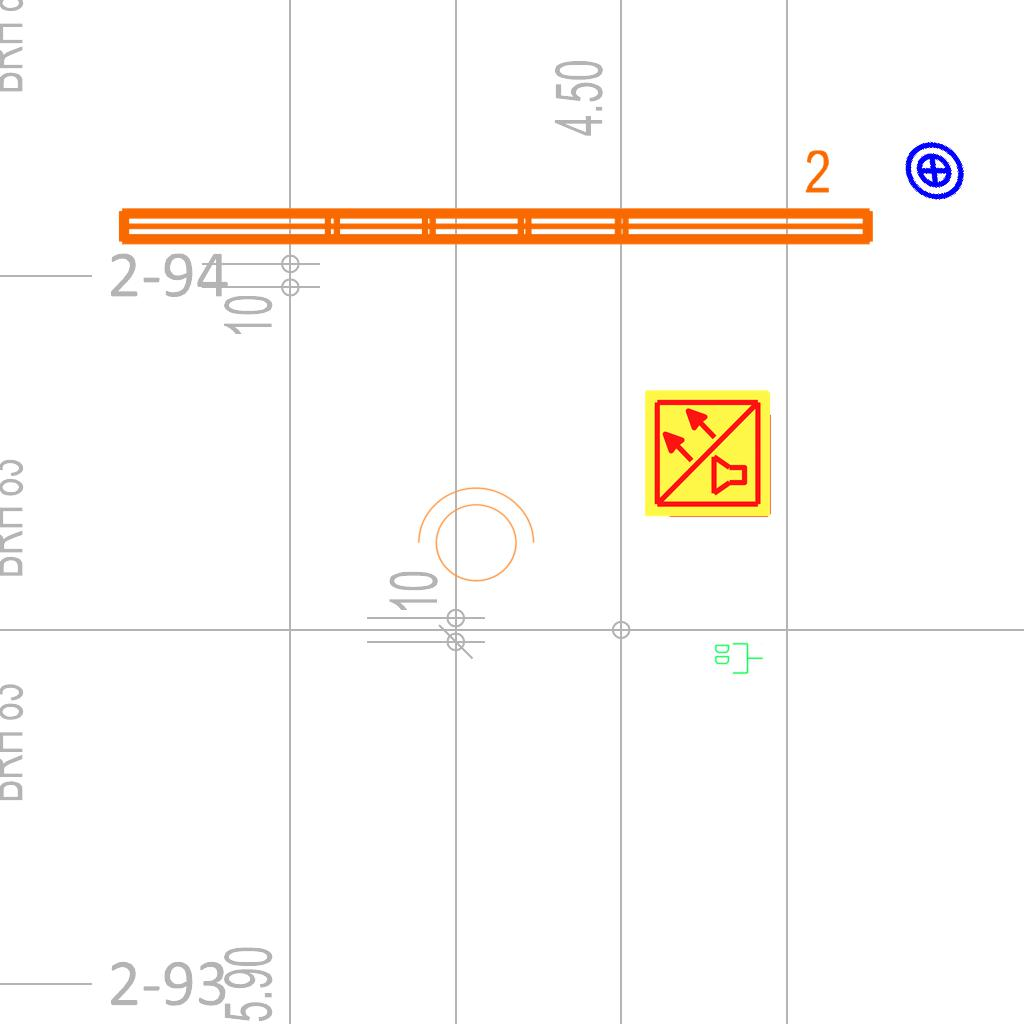Ambulanz_Pendelleuchte_LED: (108, 145, 882, 257)
Datenanschluss_zweifach: (713, 641, 764, 675)
OKW_Multisensormelder_(Kombination_optischer_Rauch-Kahlenmonoxid_Waerme-Melder): (642, 387, 774, 519)
Scheinwerfer_fuer_Alarmbeleuchtung: (407, 482, 539, 594)
Taster_beleuchtet: (887, 124, 981, 218)
